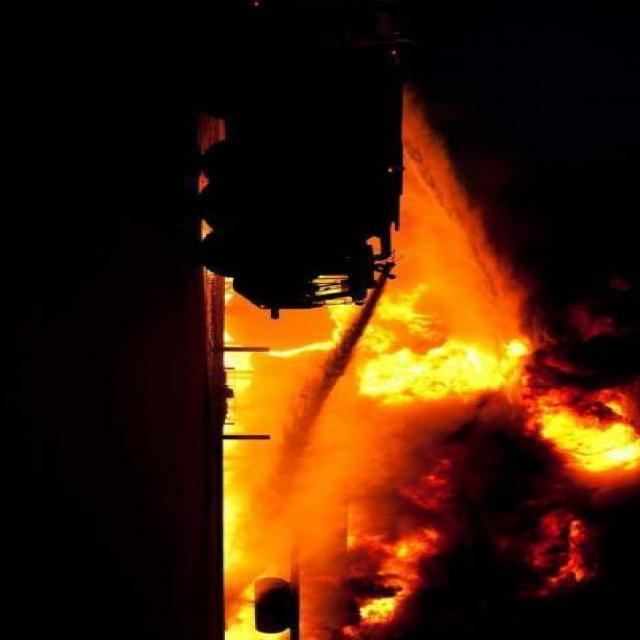Fire: (216, 294, 631, 640)
